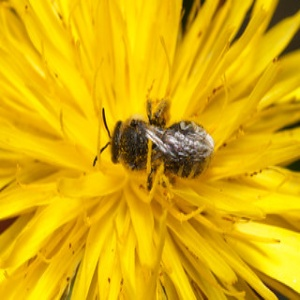bee: (101, 104, 217, 186)
